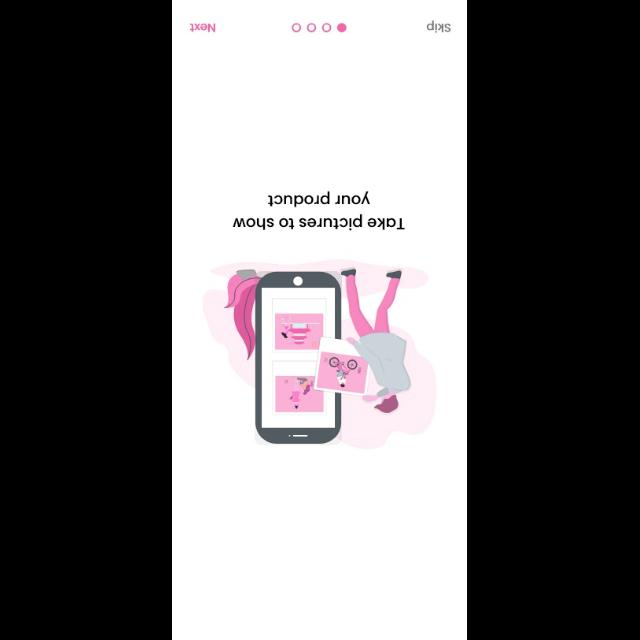image: (203, 260, 437, 448)
pageindicator: (292, 22, 346, 34)
text: (232, 190, 406, 230), (426, 20, 452, 34), (190, 23, 216, 33)
